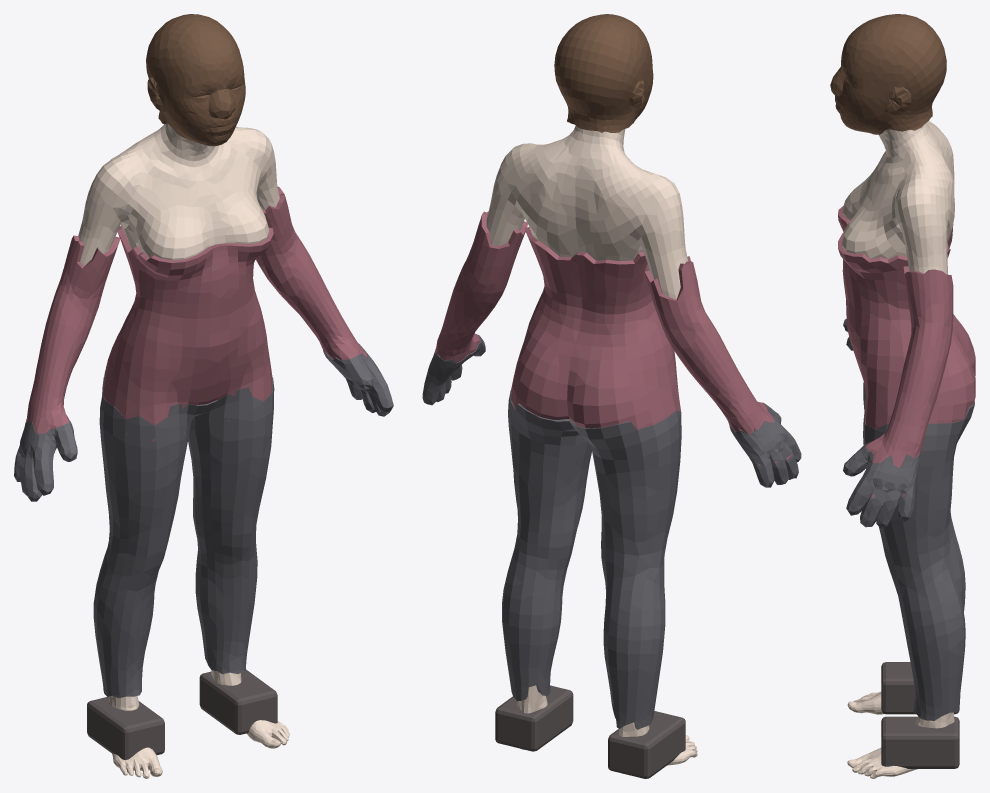
File: npc_human.glb
3 renders of one model, left to right at view 1: azimuth 30°, elevation 25°; view 2: azimuth 150°, elevation 25°; view 3: azimuth 270°, elevation 25°, orthographic.
Parts seen in each view (by area): view 1: PeriHuman; view 2: PeriHuman; view 3: PeriHuman.
Part boxes in pixels (x1,y1,x2,y2): PeriHuman: (14,14,393,778); PeriHuman: (422,14,801,778); PeriHuman: (830,14,975,778).
Size of the model in its own units: 0.8744 by 1.68 by 0.3067.
